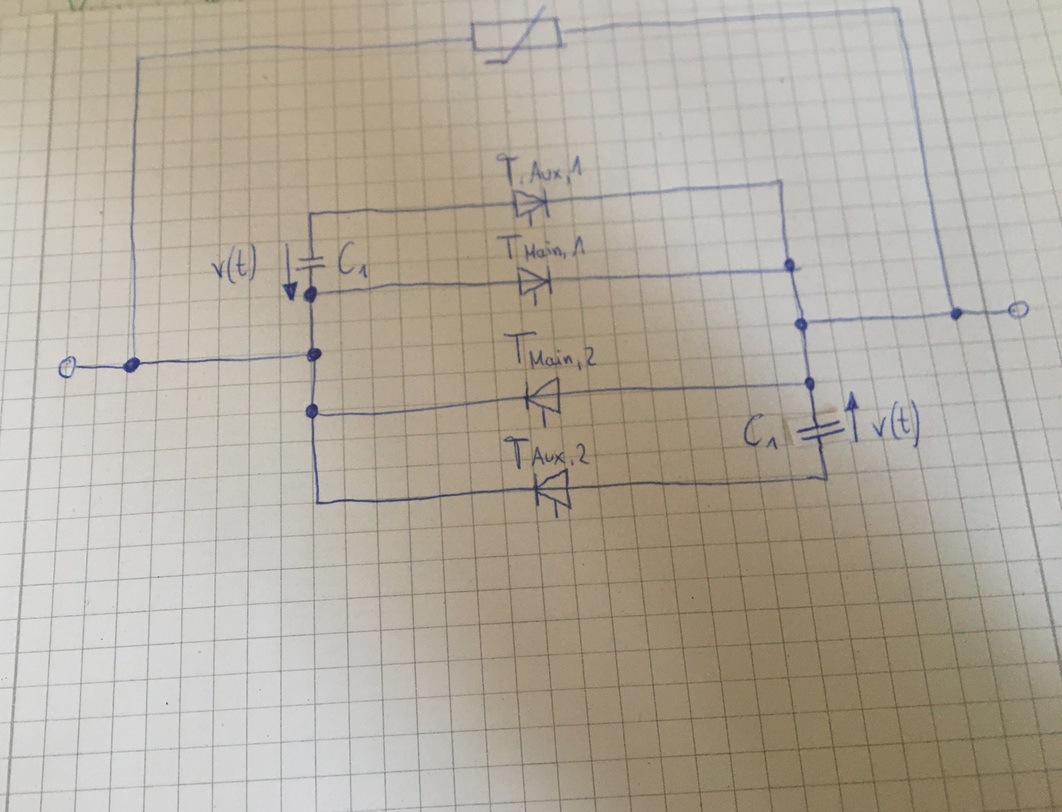capacitor.unpolarized: (794, 417, 848, 445), (294, 252, 328, 274)
junction: (120, 354, 143, 376), (780, 254, 803, 275), (301, 283, 322, 305), (791, 314, 812, 334), (946, 303, 966, 323), (304, 346, 324, 365), (801, 373, 819, 393), (888, 1, 908, 18), (816, 470, 835, 487), (304, 401, 321, 420), (772, 172, 790, 188), (131, 51, 148, 66), (311, 497, 324, 510), (304, 207, 316, 220)
terminal: (56, 354, 80, 381), (1006, 298, 1032, 321)
text: (501, 328, 599, 373), (501, 432, 596, 470), (492, 152, 589, 187), (869, 396, 925, 453), (493, 231, 588, 264), (205, 241, 261, 285), (739, 410, 784, 453), (331, 238, 374, 281)
thyristor: (531, 468, 574, 512), (522, 375, 564, 416), (510, 188, 552, 222), (514, 264, 554, 299)
varistor: (468, 2, 568, 67)
